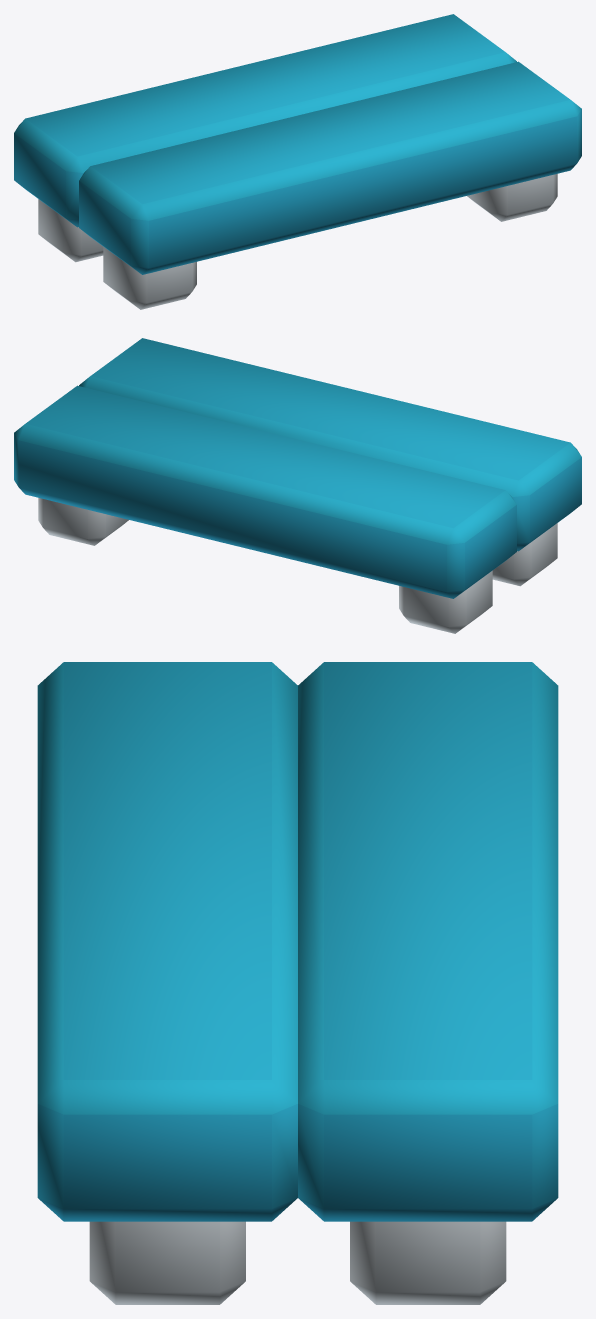
The model's file is blue_bench.glb.
3 views of the same model, one above another, from view 1: azimuth 30°, elevation 25°; view 2: azimuth 150°, elevation 25°; view 3: azimuth 270°, elevation 25° (orthographic). The views are drawn at different scales.
Visible parts, largest first — view 1: bench_B; view 2: bench_B; view 3: bench_B.
Part boxes in pixels (box(x1,y1,x2,y2)): bench_B: box(14, 14, 581, 309); bench_B: box(14, 338, 581, 633); bench_B: box(37, 662, 558, 1304).
Bounding box in the file's own units: 2 × 0.5 × 1.
1 material, 1 textured.
